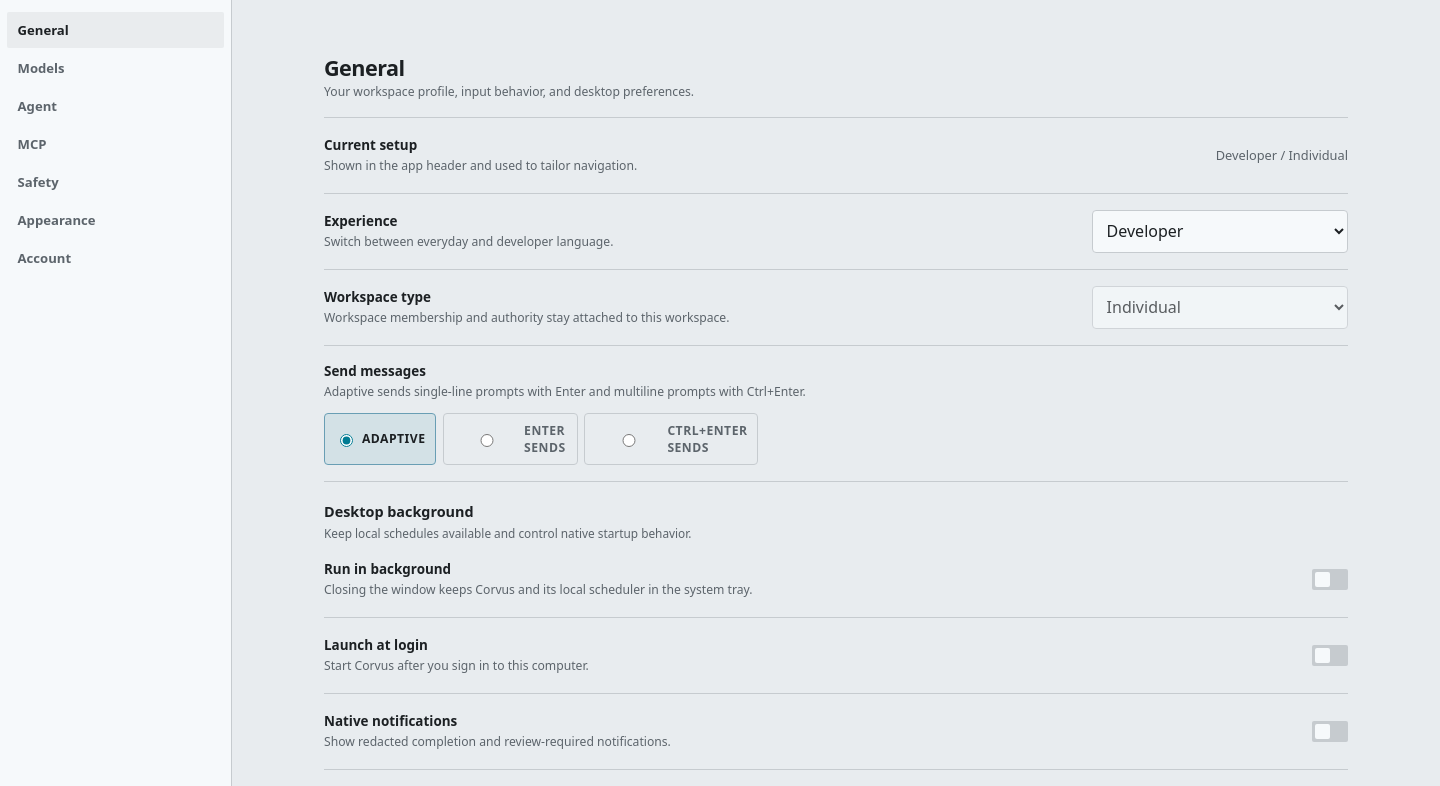
SettingsPanel › acknowledges a saved runtime before retrying a failed desktop-only step
The width and height of the screenshot is (1440, 786).
Click the checkbox named "Run in background" at x=1330, y=579, box [1312,569,1348,590]
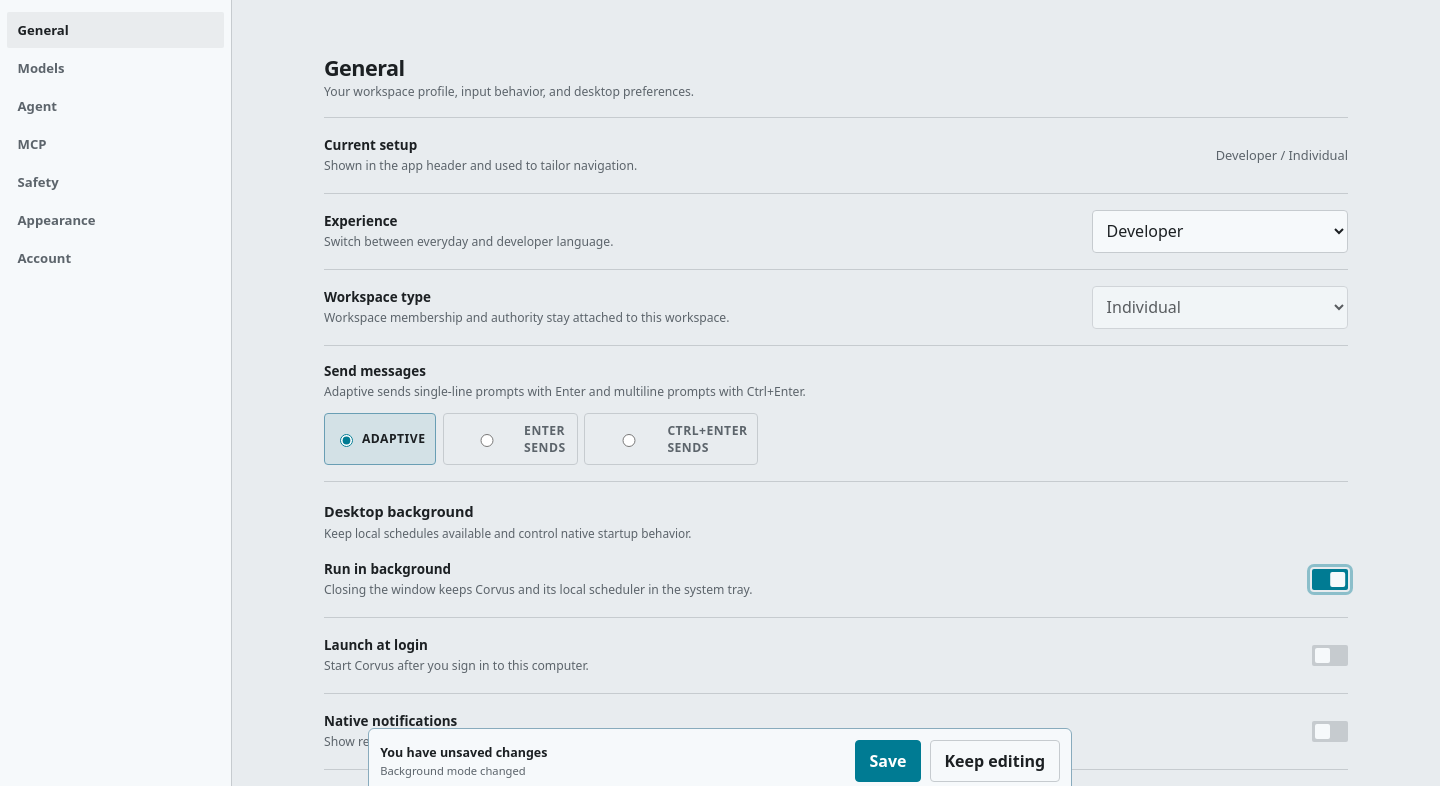
Click the button "Agent" at x=116, y=106, box [7,88,224,124]
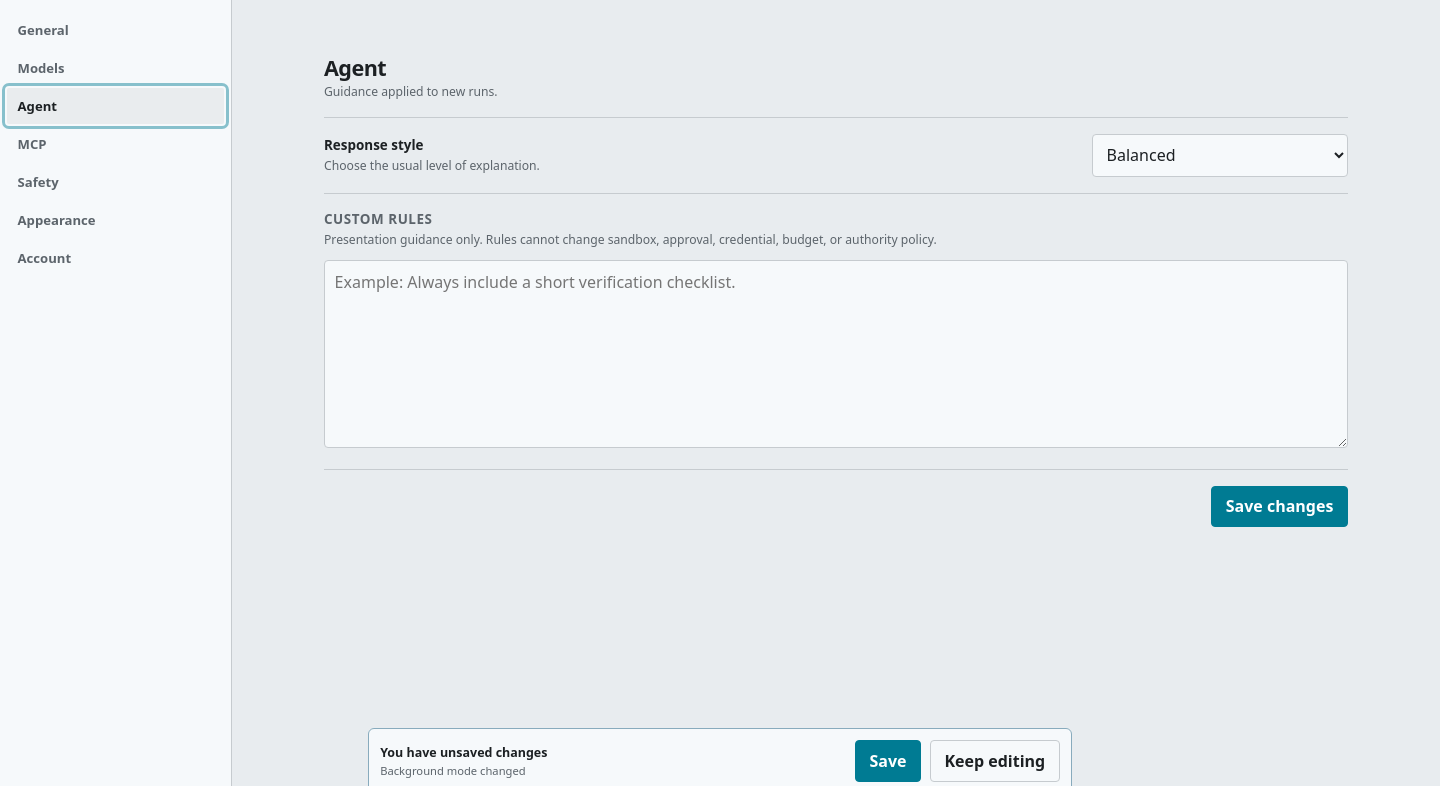
Select "Concise" in the dropdown named "Response style" at x=1220, y=155, box [1092,134,1348,177]
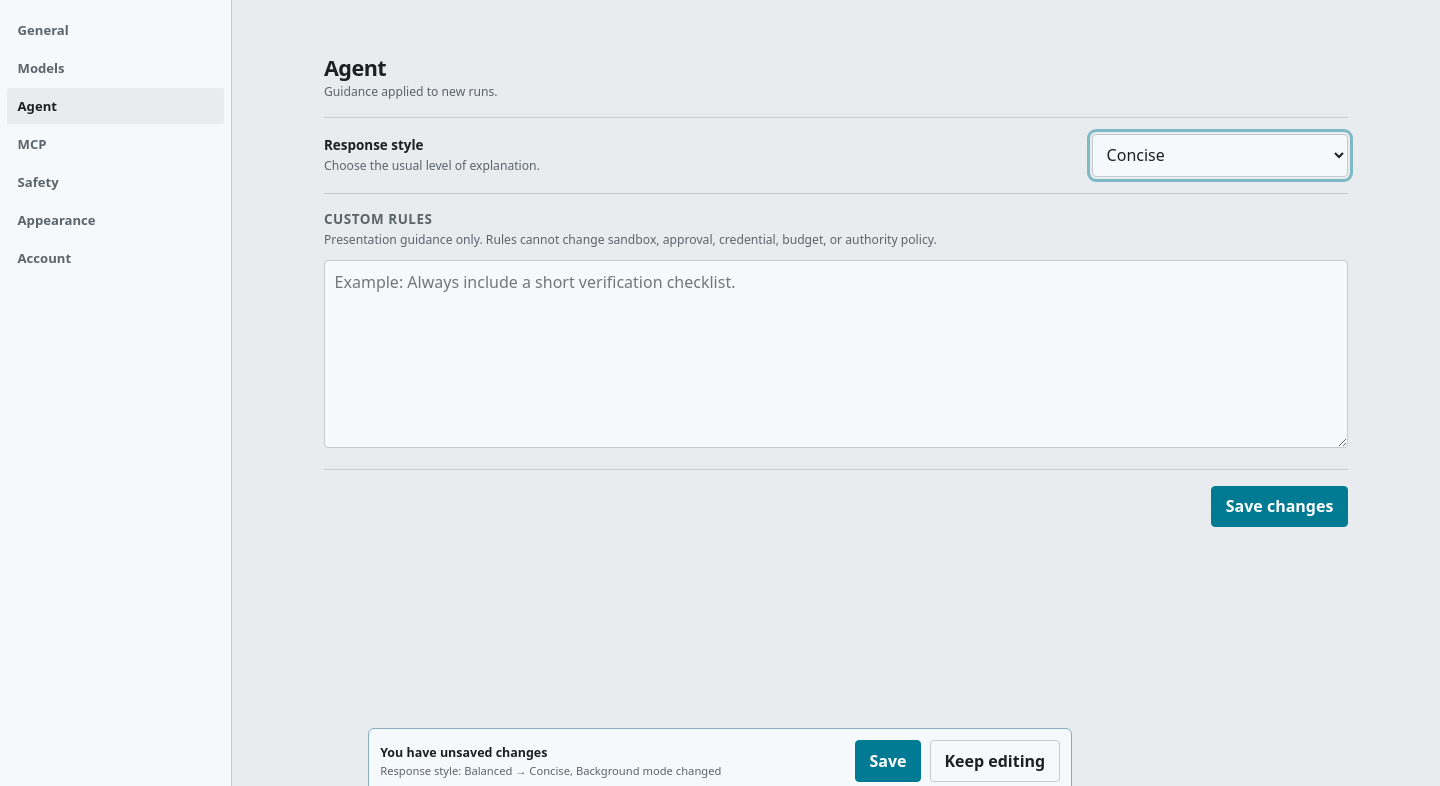
Click the button "Save changes" at x=1280, y=506, box [1211,486,1348,527]
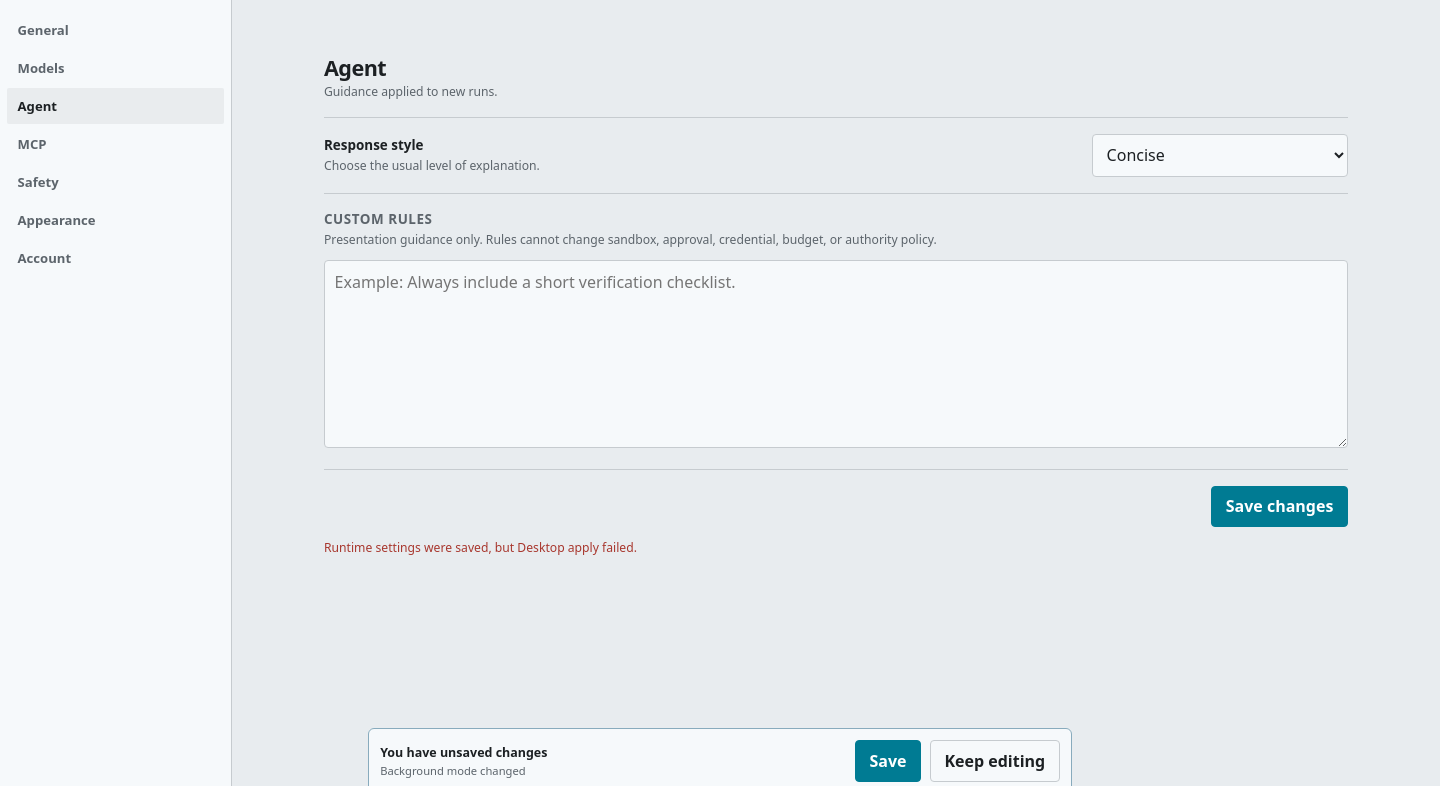
Check: the message reads "Runtime settings were saved, but Desktop apply failed.", box [324,539,637,556]
Click the button "Save changes" at x=1280, y=506, box [1211,486,1348,527]
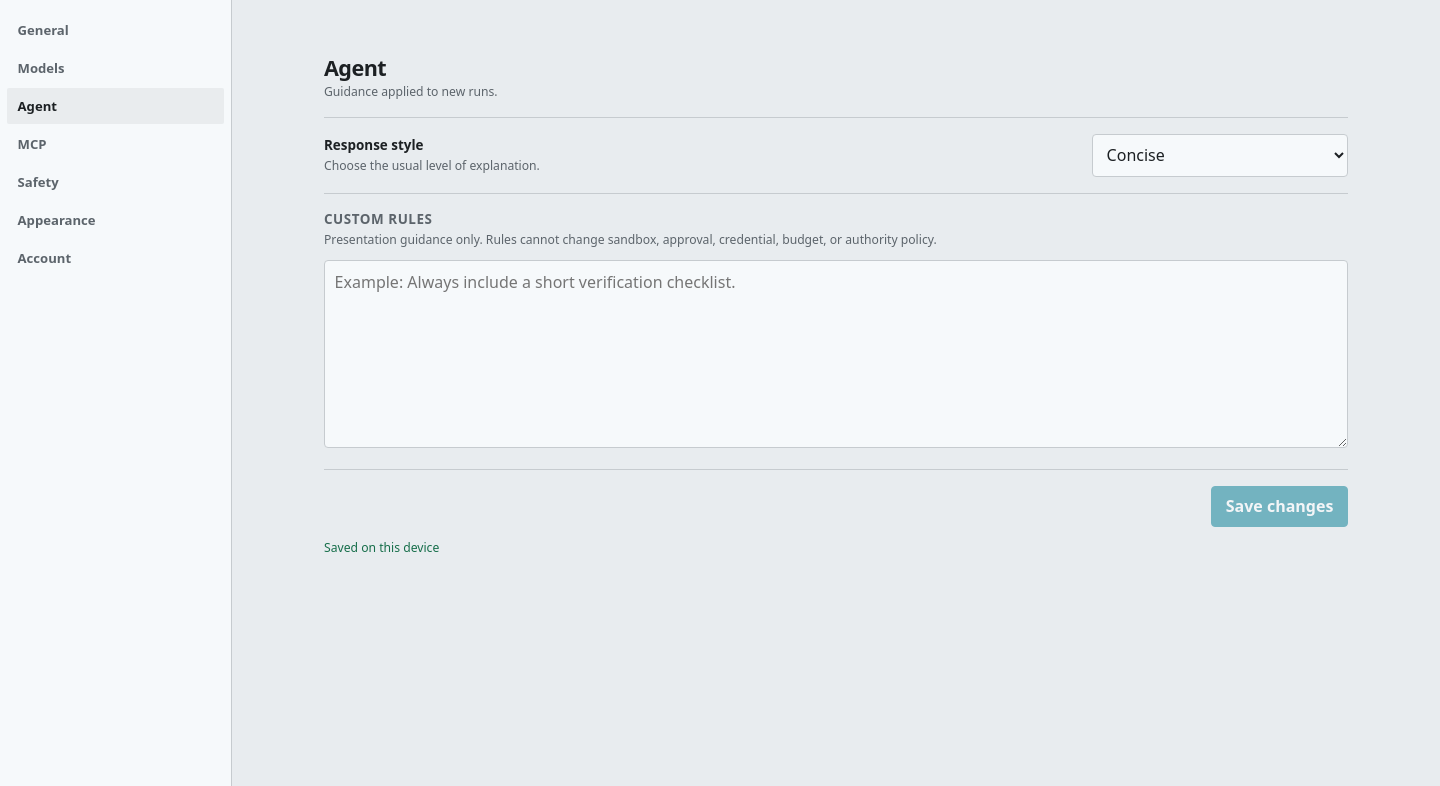
Check: the text "Saved on this device" is shown, box [324,539,439,556]
